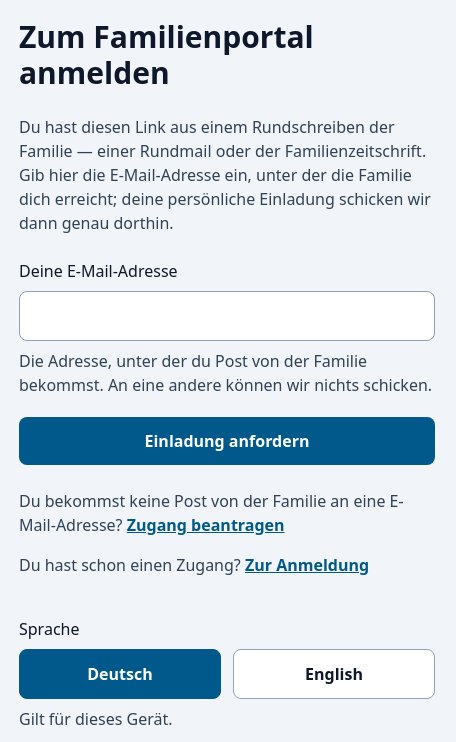
Test case: choosing the language on the way in › offers the switch and changes the page with it
Check: the heading "Zum Familienportal anmelden" is shown, box [19,16,314,93]
Click the button "English": (334, 674) [233,649,435,699]
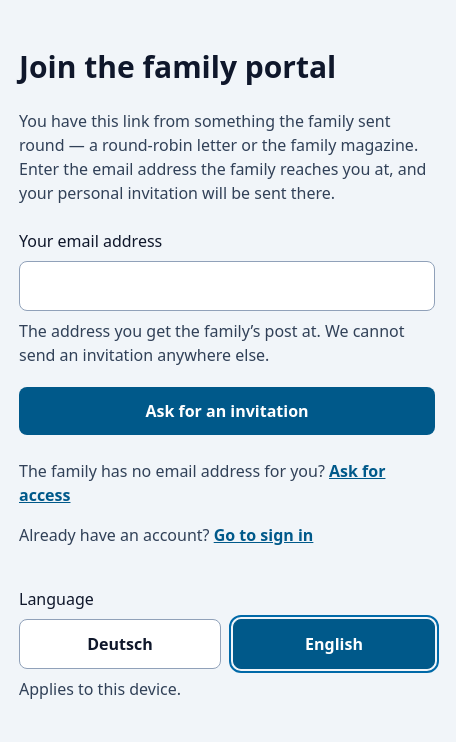
Check: the heading "Join the family portal" is shown, box [19,46,336,87]
Check: the button "Ask for an invitation" is shown, box [19,387,435,435]
